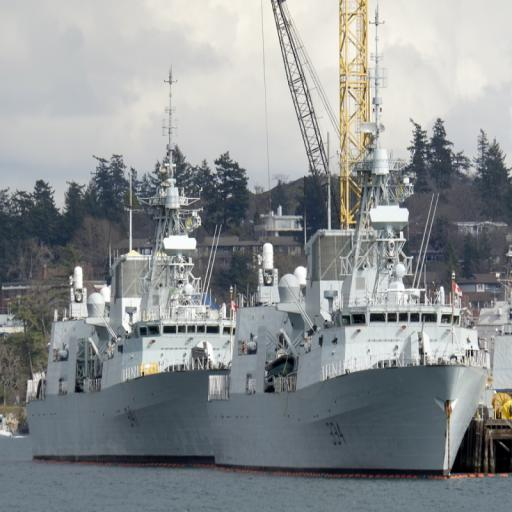Fragata: (209, 118, 494, 482), (16, 40, 236, 472)
